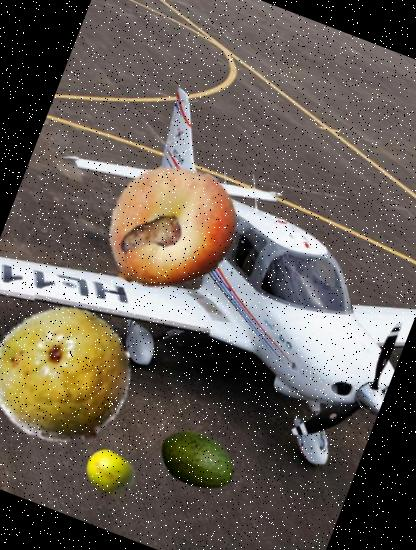Avocado: (146, 411, 248, 513)
Guava: (0, 285, 153, 470)
Peach: (84, 143, 258, 316)
Pear: (109, 198, 192, 282)
Pomelo: (76, 440, 143, 506)
